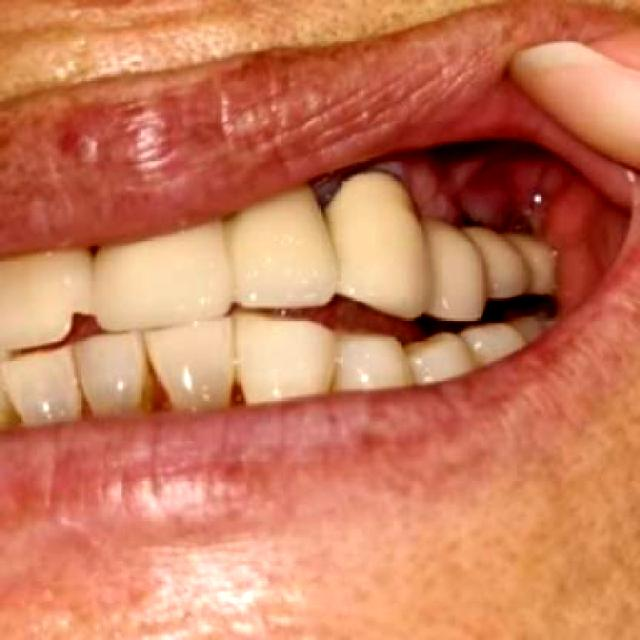Plaque: (314, 165, 408, 208), (413, 191, 501, 228)
